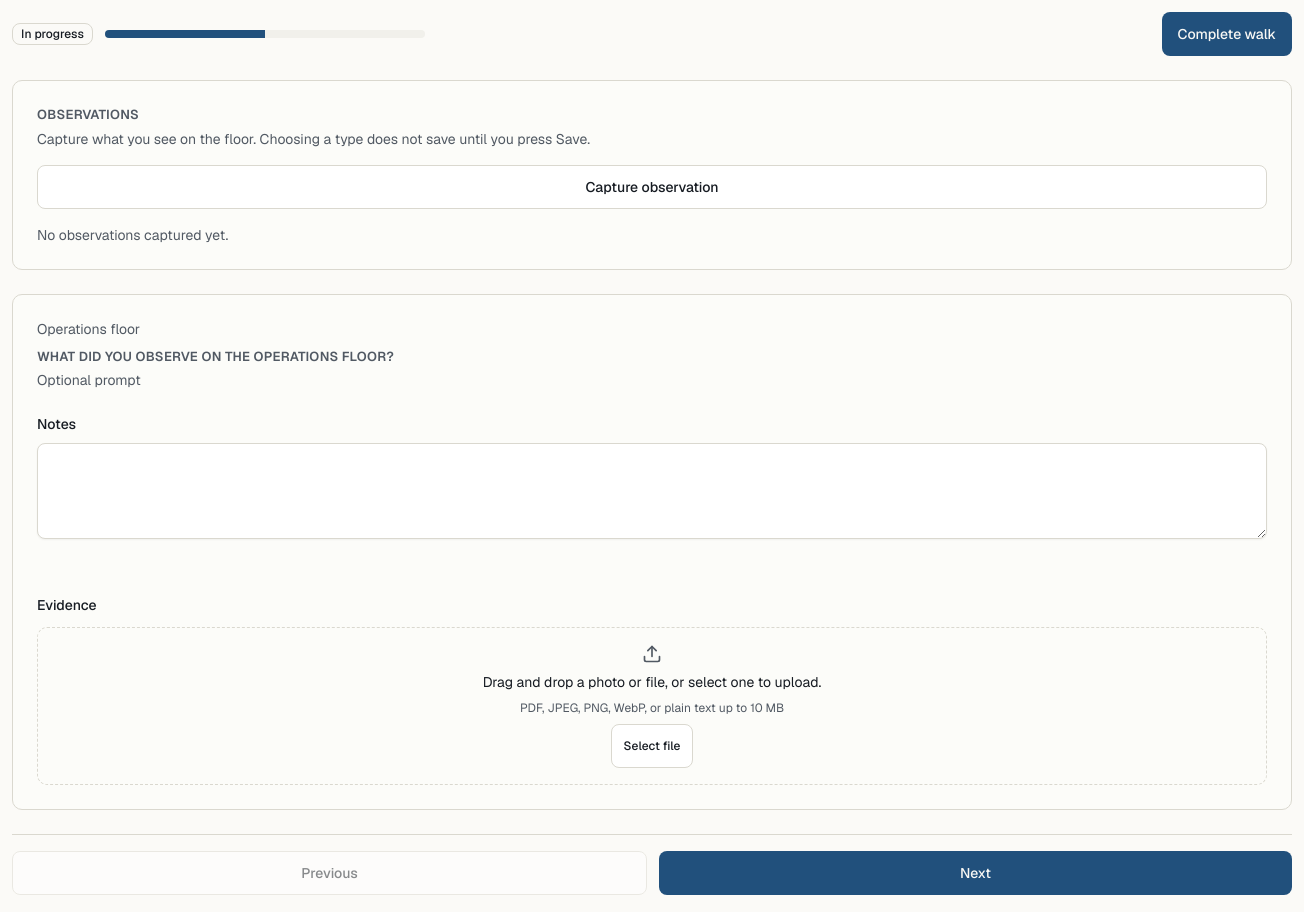
Test case: GembaWalkWorkspace answer state › blocks completion while an observation editor is dirty
This screenshot has width=1304, height=912.
Click the button with test id "gemba-capture-observation".
click(652, 186)  # box [37,164,1267,208]
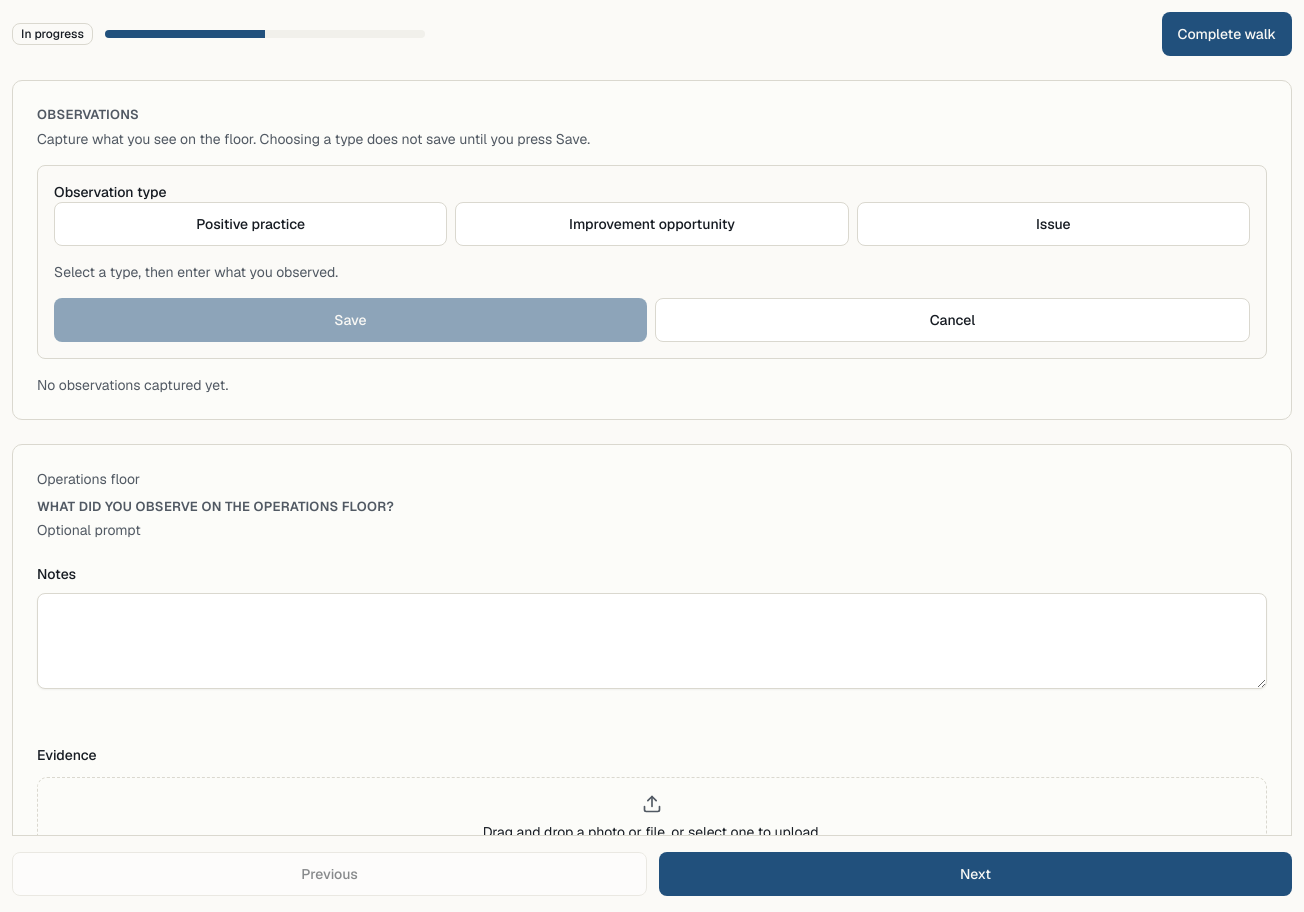
Click the button with test id "gemba-observation-type-improvement_opportunity".
click(652, 224)  # box [455,202,849,246]
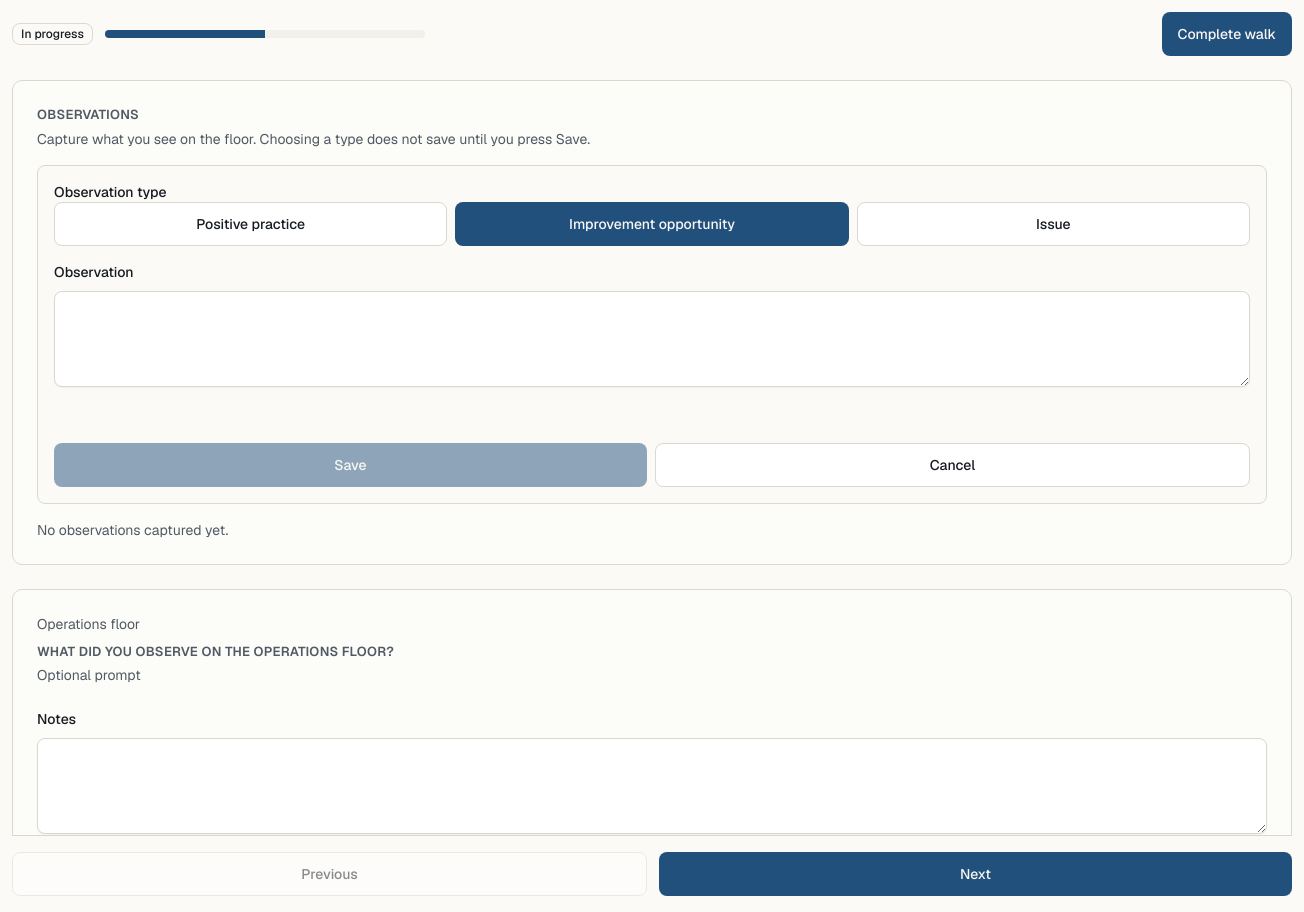
Type "Unsaved floor issue" into the text box with test id "gemba-observation-text".
click(652, 338); type("Unsaved floor issue")  # box [54,290,1250,386]
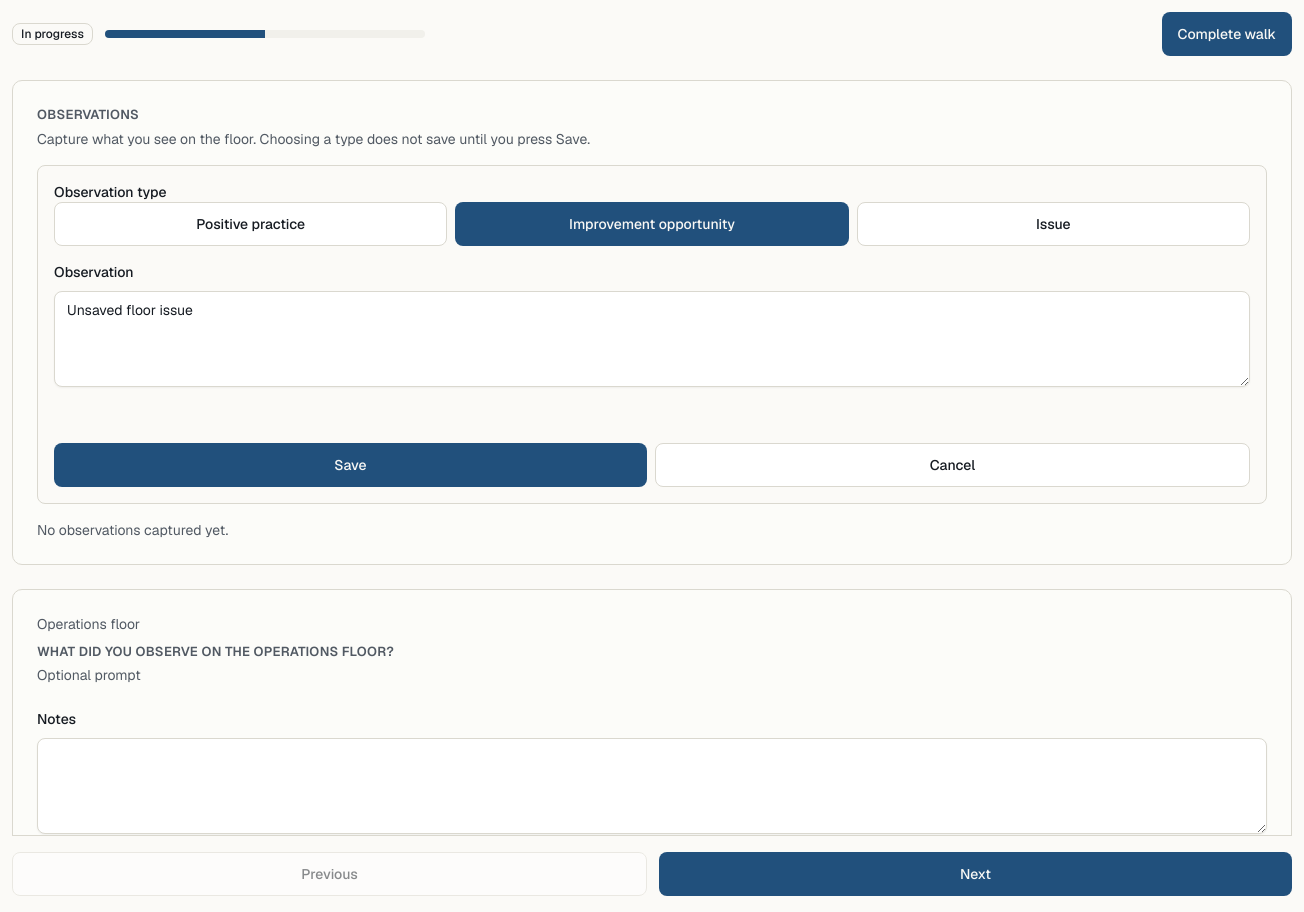
Click the button with test id "gemba-complete-walk".
click(1227, 34)  # box [1162,12,1292,56]
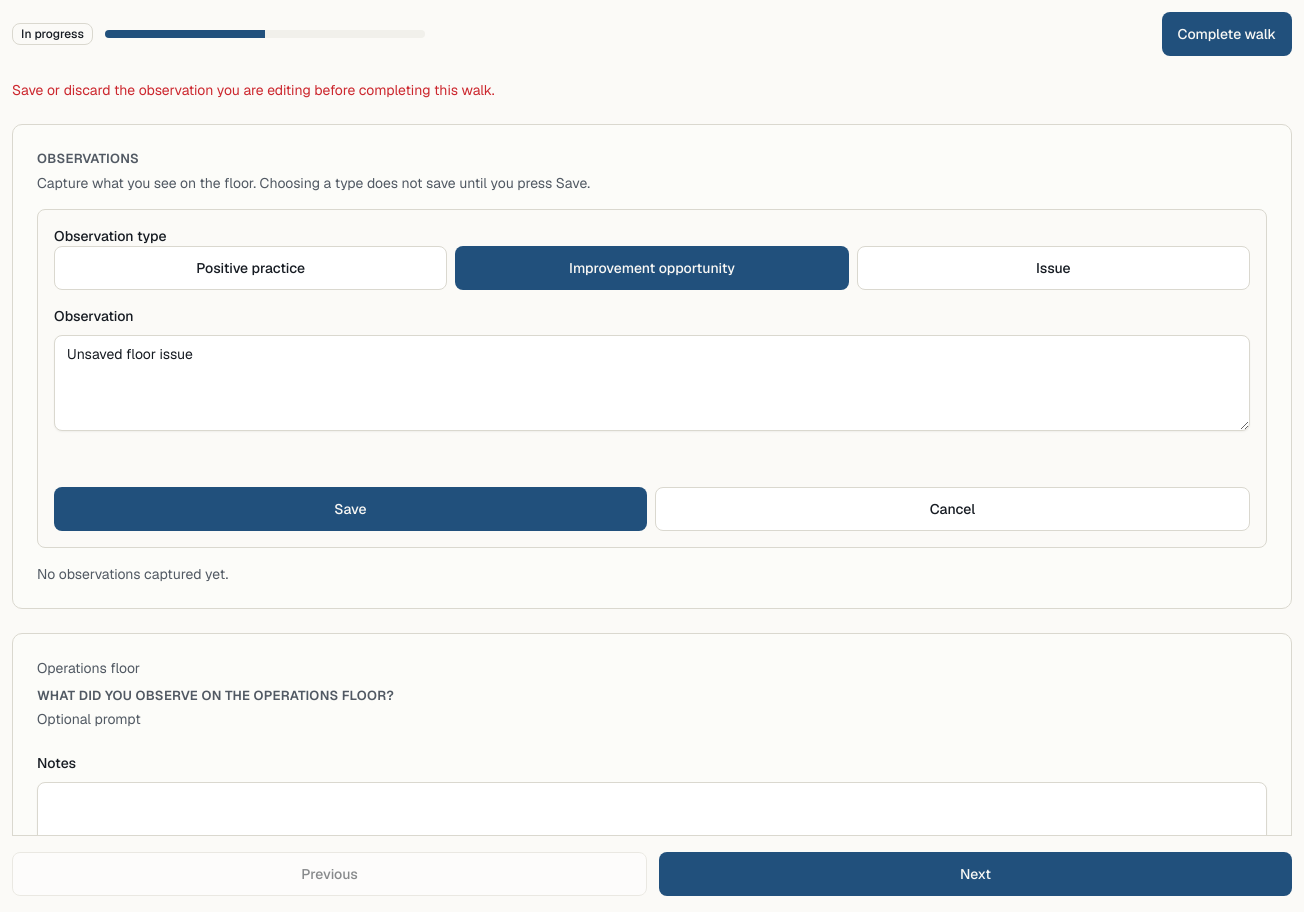
Expected: the message with test id "gemba-complete-error" reads "Save or discard the observation you are editing before completing this walk.", [12,81,495,99]
